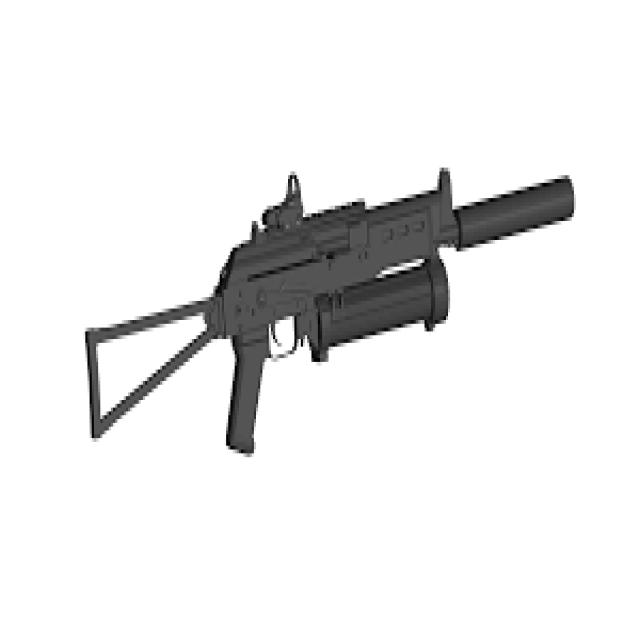firearm: (86, 170, 574, 453)
